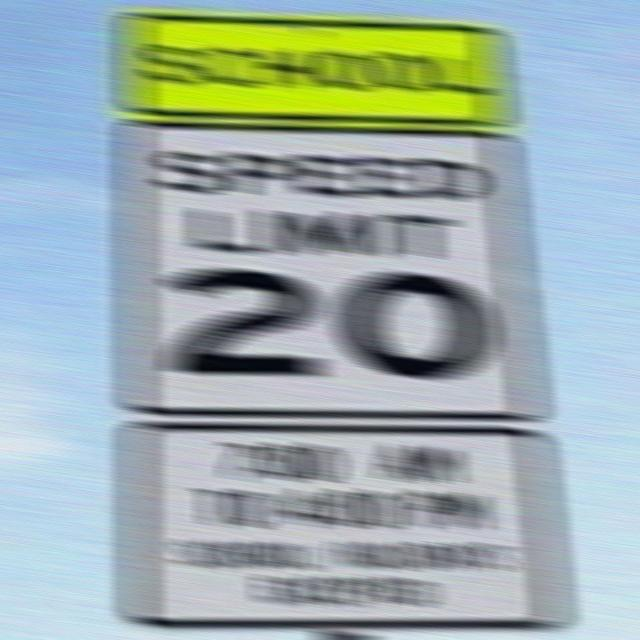speedLimit20: (119, 119, 542, 429)
